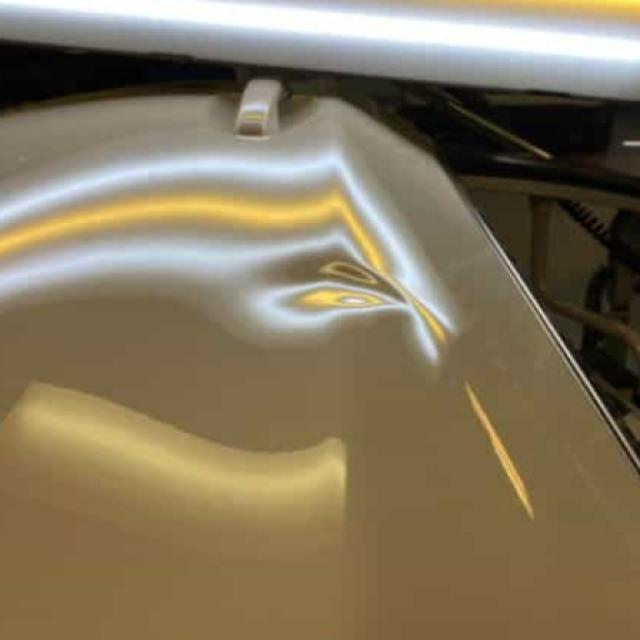dents: (244, 215, 489, 381)
